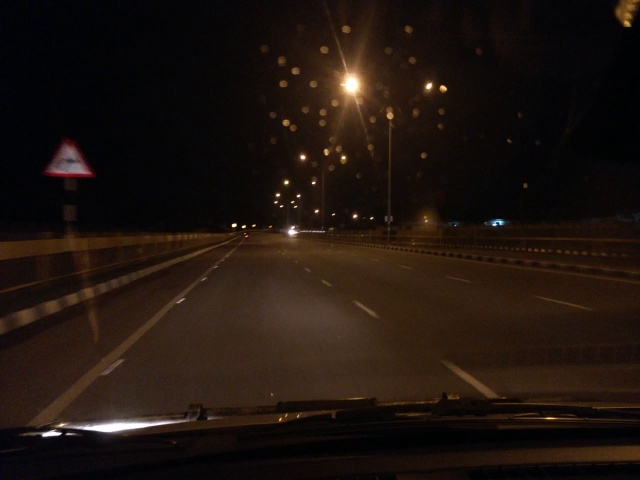car: (280, 219, 305, 238)
